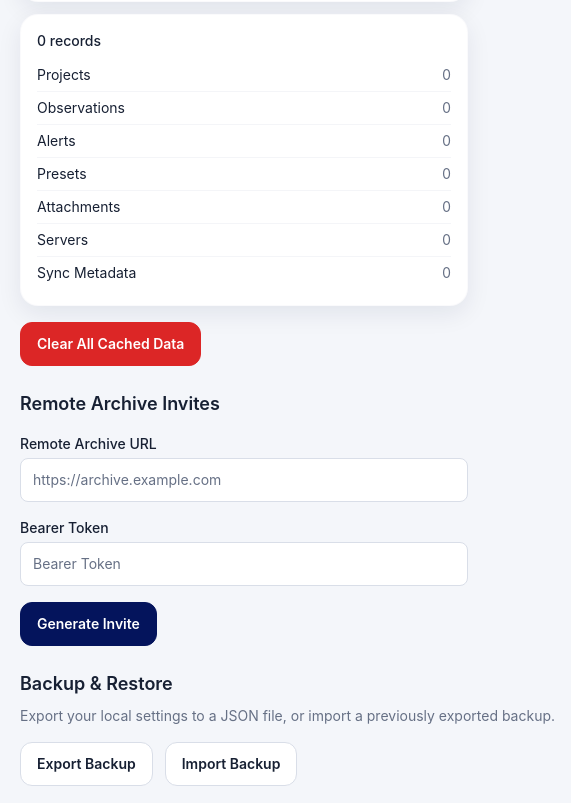
Test: SettingsScreen › Backup & Restore › shows success feedback after export
(page scrolled)
Click the button "Export Backup". click: (86, 764)
box: [20, 742, 153, 786]
(page scrolled)
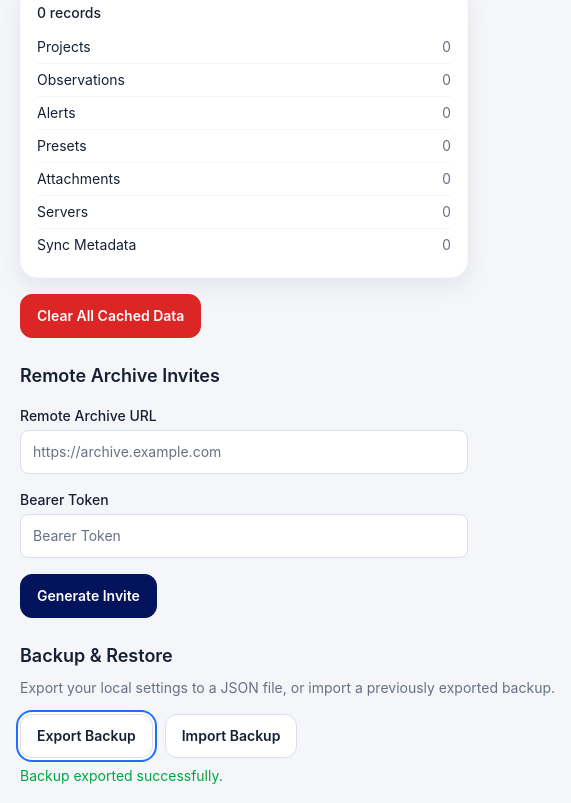
Now the text "Backup exported successfully." is shown, box [20, 767, 223, 784]
